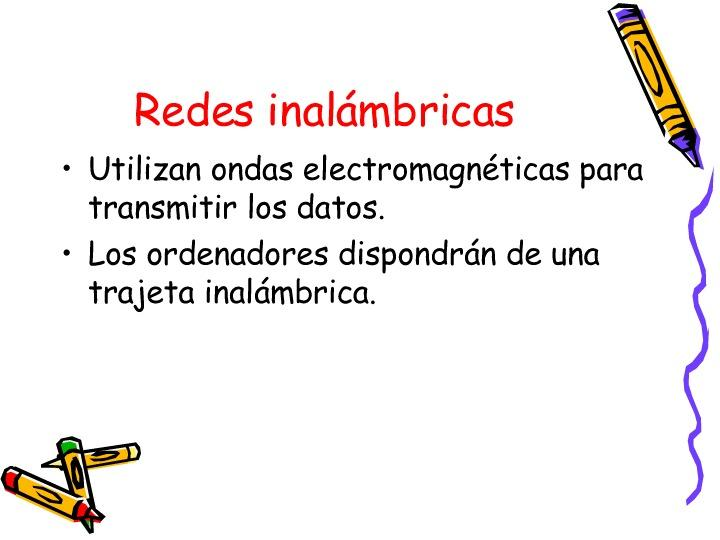paragraph: (52, 151, 669, 324)
title: (120, 81, 522, 139)
